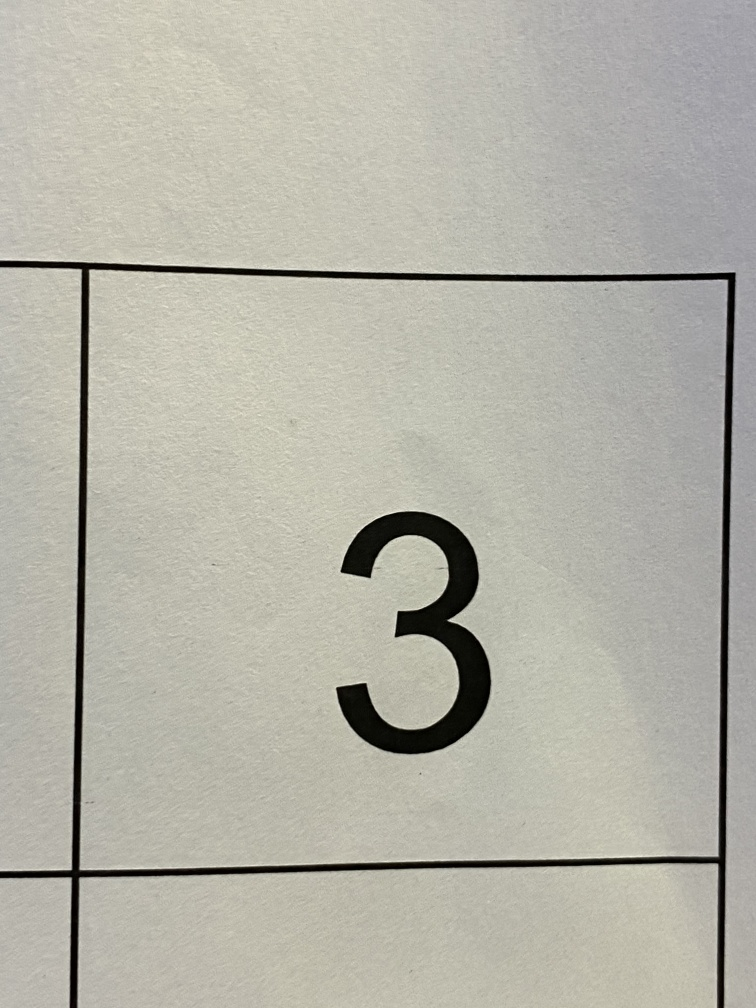three: (261, 452, 562, 823)
